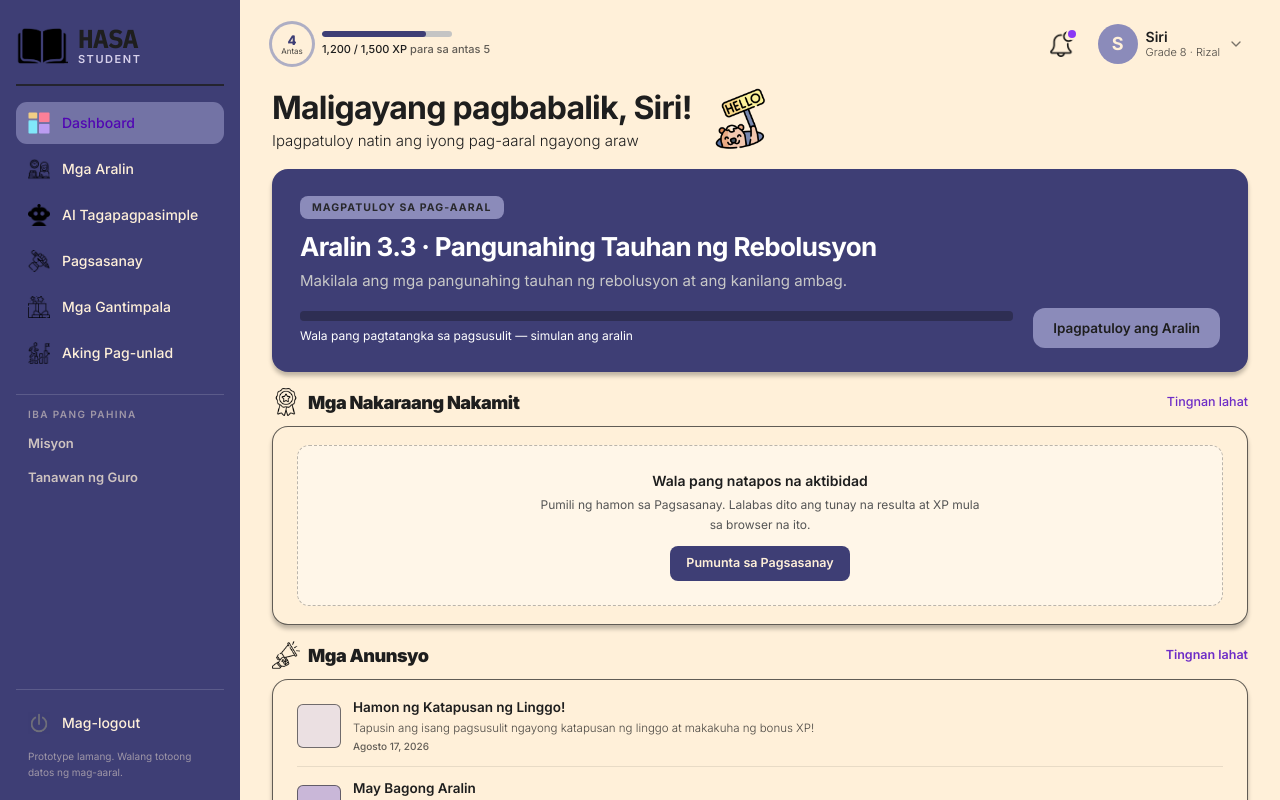
Scenario: dashboard › nagbubukas ng listahan ng anunsyo
The image size is (1280, 800).
Click the button "Tingnan lahat" at (1207, 655), box [1166,646,1248,664]
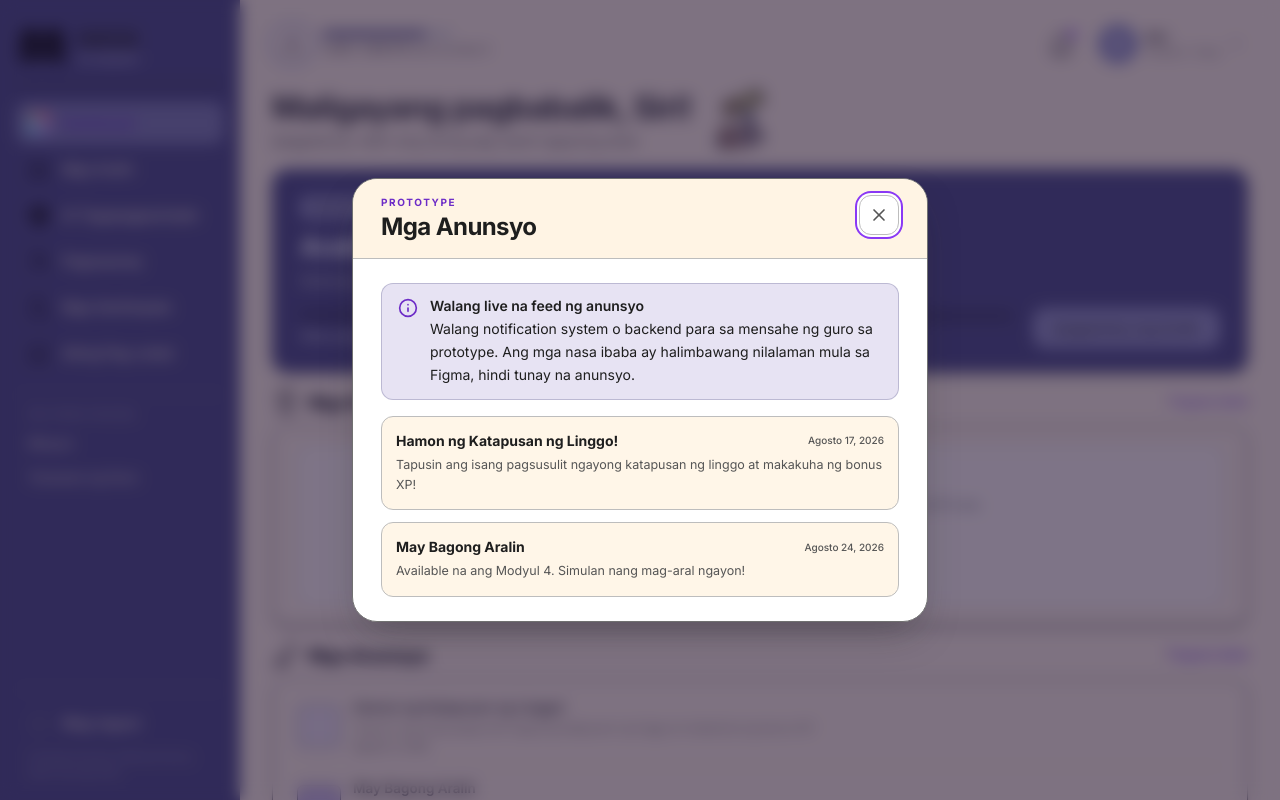
Expected: the text "Walang live na feed ng anunsyo" is shown, [430,297,644,314]
Expected: the text "Hamon ng Katapusan ng Linggo!" is shown, [396,431,618,451]
